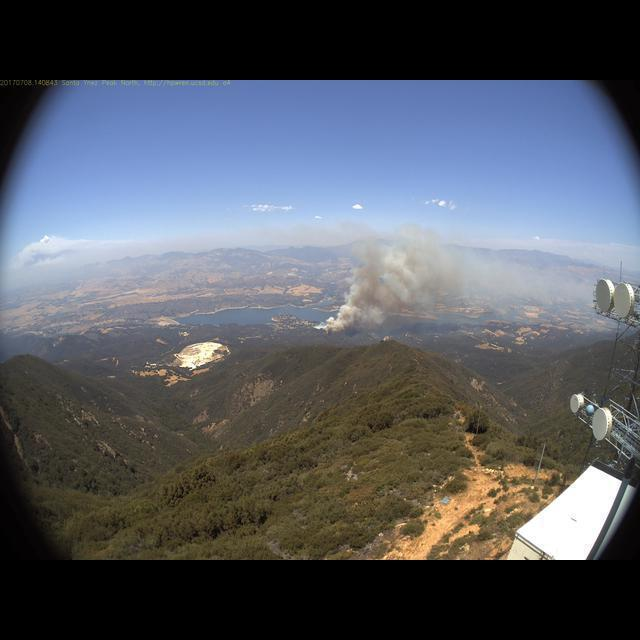Smoke: (312, 214, 520, 334)
